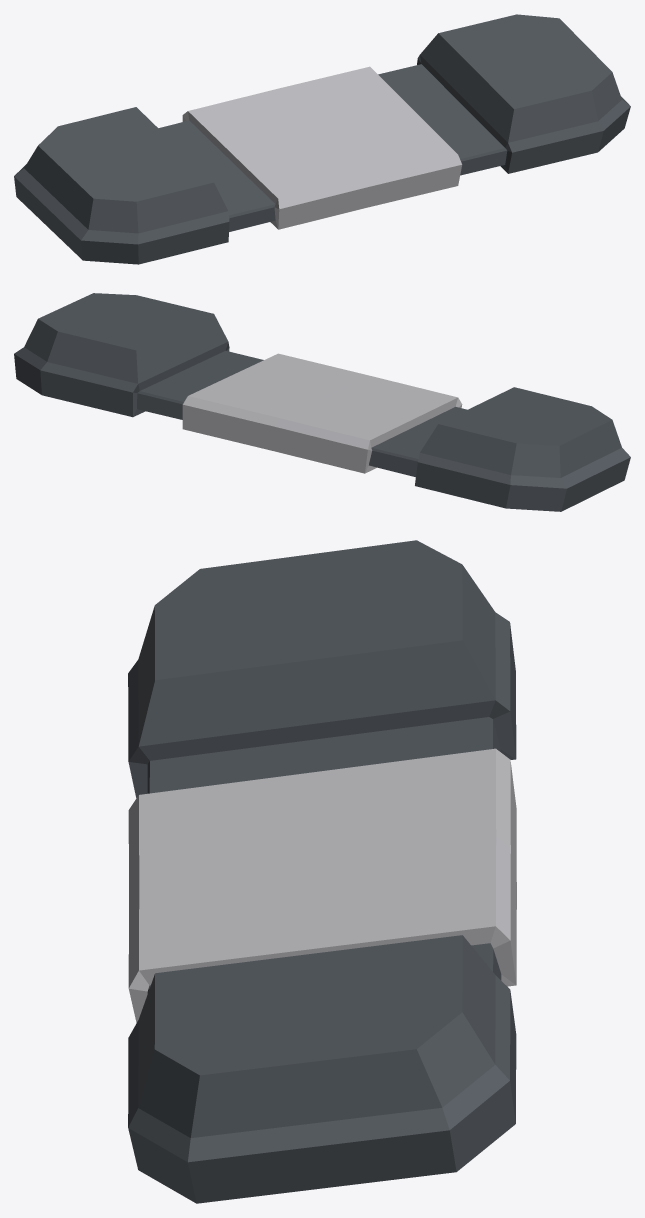
Rendered from Mothership_01_Detail_2.fbx.
3 views of the same model, one above another, from view 1: azimuth 30°, elevation 25°; view 2: azimuth 150°, elevation 25°; view 3: azimuth 270°, elevation 25° (orthographic). The views are drawn at different scales.
Visible parts, largest first — view 1: Mothership_01_Detail_2; view 2: Mothership_01_Detail_2; view 3: Mothership_01_Detail_2.
Part boxes in pixels (x1,y1,x2,y2): Mothership_01_Detail_2: (14,14,630,264); Mothership_01_Detail_2: (14,293,630,511); Mothership_01_Detail_2: (128,540,516,1203).
Size of the model in its own units: 1299 by 178 by 395.
Materials: 1 (1 with a texture image).
